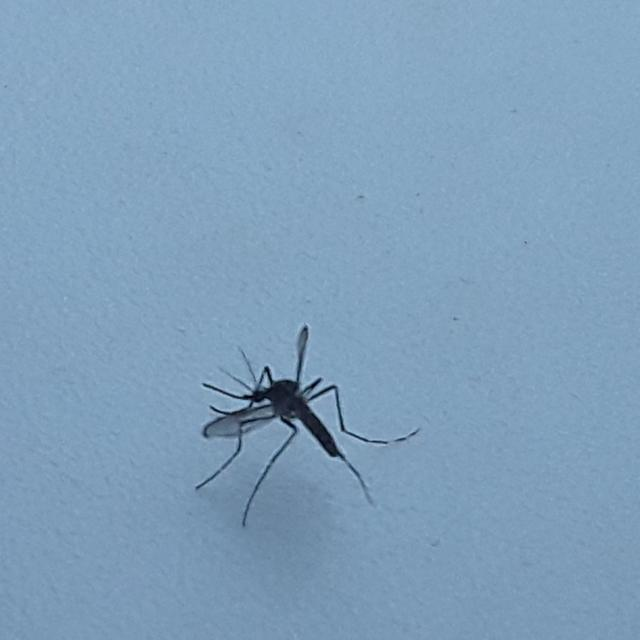albopictus: (193, 313, 414, 525)
